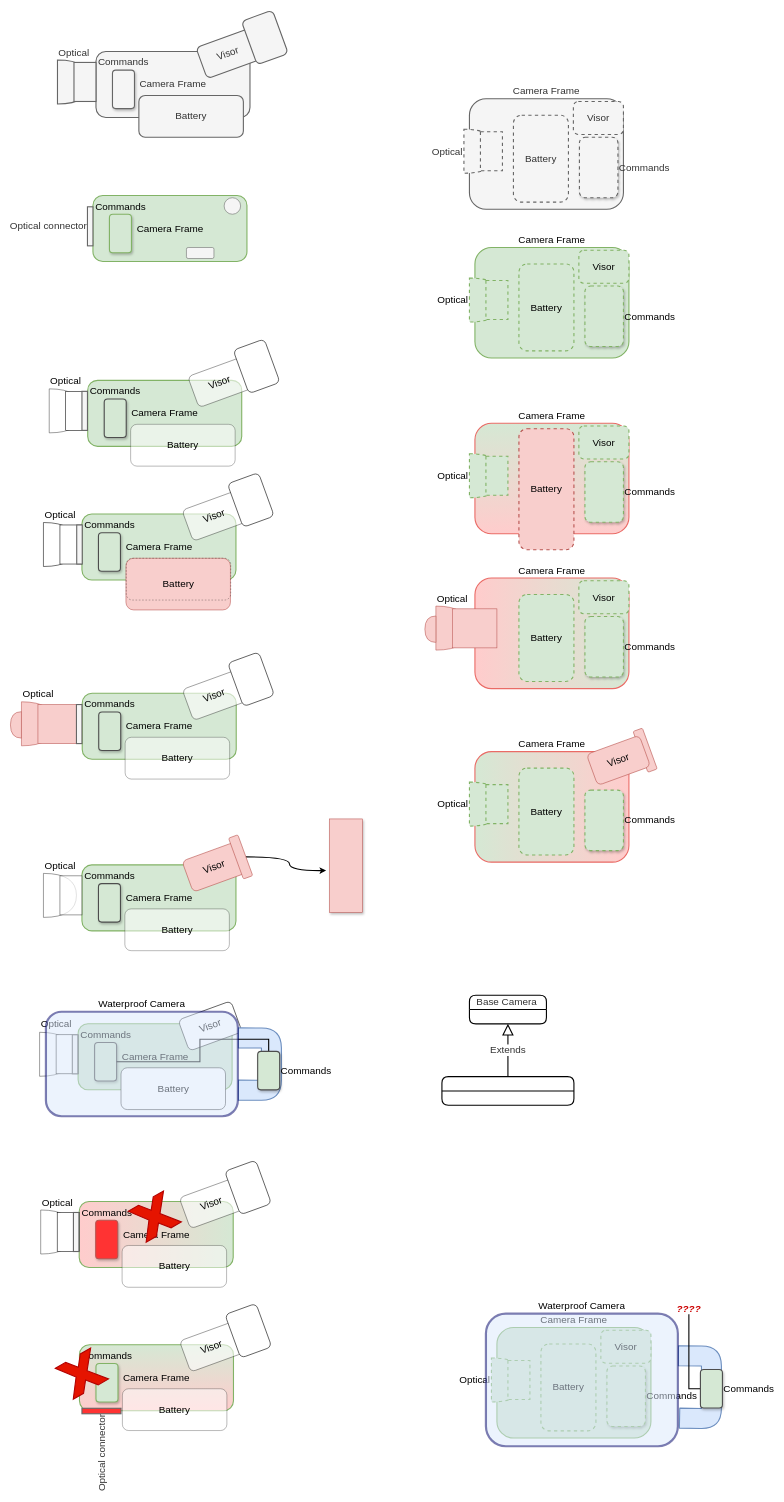
This 784x1502 diagram has some shape labels left out. The shapes that lost their labels are listed below. From the top down, each one's centre as x and y in pixels, then its label:
point (232, 205): Visor connector
point (200, 252): Battery connector
point (346, 866): Monitor
point (507, 1091): Extra Battery Camera
